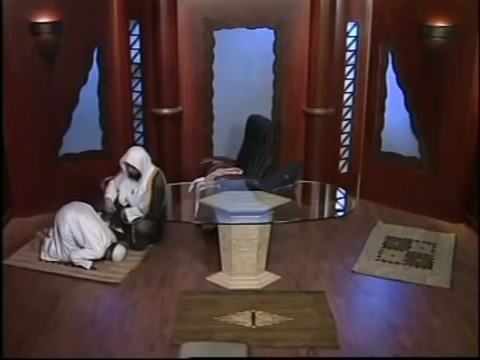sujud: (31, 201, 132, 270)
